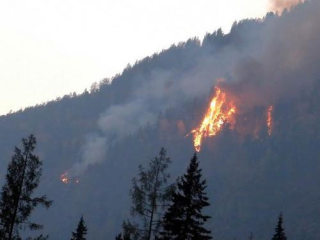fire: (194, 88, 246, 151), (264, 103, 281, 136)
smoke: (58, 64, 187, 160), (185, 17, 316, 86)
